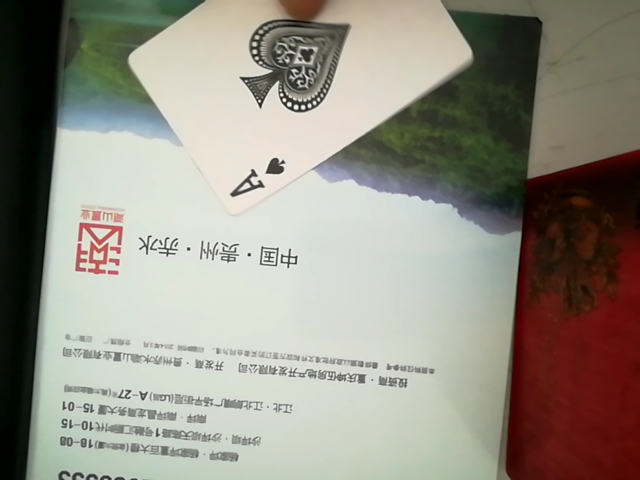ht a: (104, 4, 471, 220)
